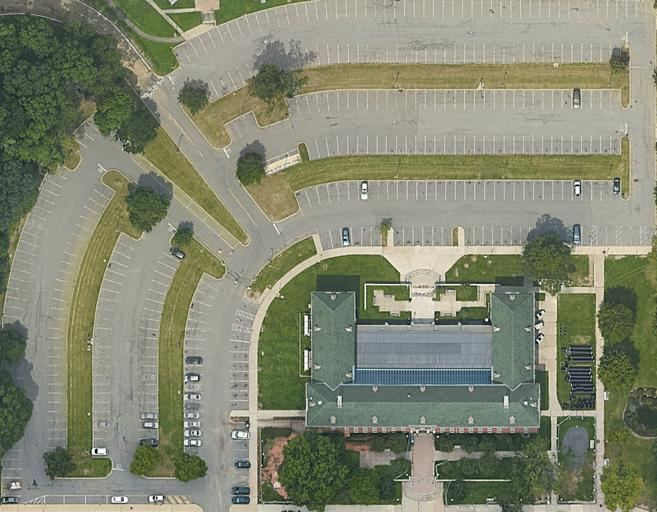parkingspot: (171, 0, 656, 67), (198, 42, 622, 104), (46, 179, 116, 454), (1, 165, 74, 338), (125, 151, 240, 250), (92, 232, 140, 459), (294, 180, 622, 213), (138, 243, 186, 450), (286, 89, 622, 118), (304, 133, 622, 162), (183, 272, 223, 460), (228, 328, 252, 412), (228, 422, 250, 507), (464, 225, 549, 247), (316, 226, 382, 252), (1, 440, 22, 506), (223, 110, 262, 144), (393, 225, 453, 247), (262, 147, 302, 178), (72, 114, 100, 158), (44, 496, 151, 506), (621, 225, 642, 247), (572, 225, 592, 248), (236, 299, 260, 318), (596, 226, 617, 247), (232, 313, 255, 331), (646, 225, 657, 247), (557, 225, 568, 244)
